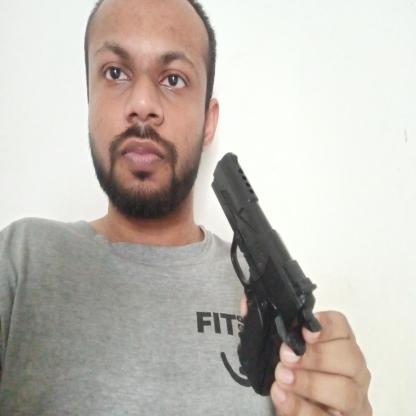handgun: (210, 152, 322, 398)
